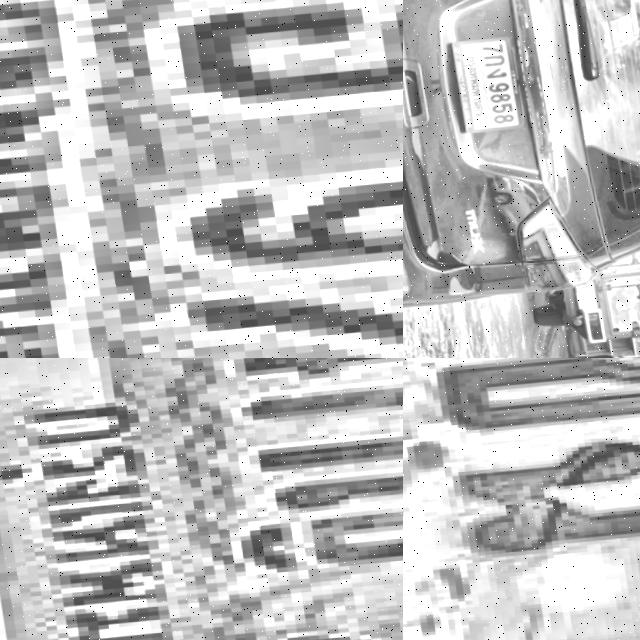license-plate: (0, 0, 403, 358), (0, 358, 403, 640), (403, 358, 640, 640), (434, 38, 515, 140)
